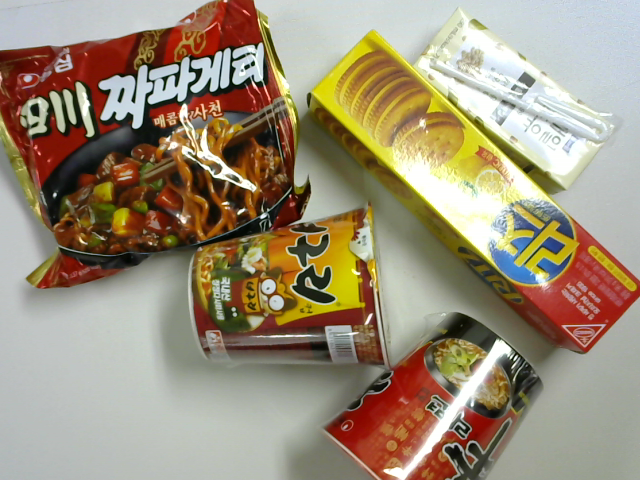99.89_Soymilk: (413, 4, 621, 200)
Raccoon: (187, 210, 397, 376)
Ritz_Remon_96g: (309, 34, 640, 359)
Sichuan_Chapaghetti: (3, 1, 313, 290)
Sinramen_small: (327, 312, 544, 480)
